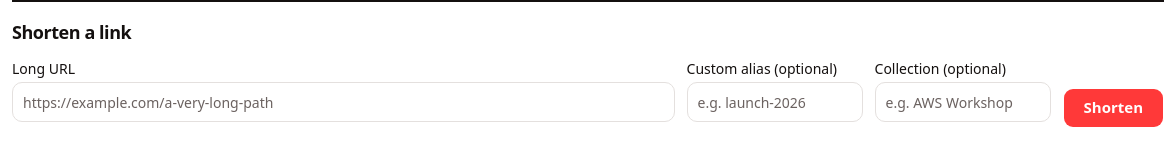
it: LinkForm › shows a validation error and skips the API for an invalid URL
The image size is (1176, 164).
Type "not a url" into the field labelled "Long URL" at x=343, y=102, box [12,82,674,122]
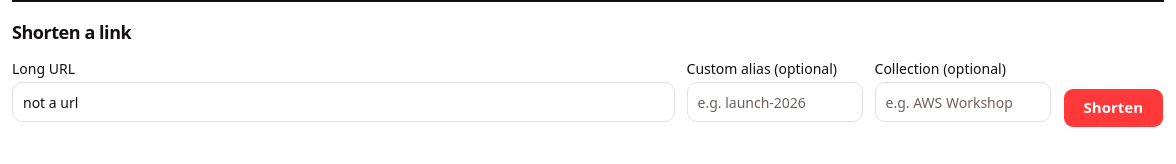
Click the button "Shorten" at x=1113, y=108, box [1062,88,1164,128]
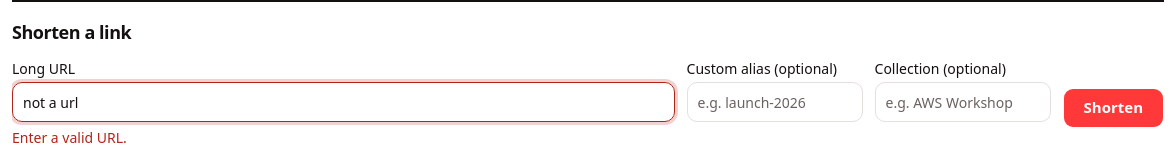
Now the text "Enter a valid URL." is shown, box [12,128,127,147]
